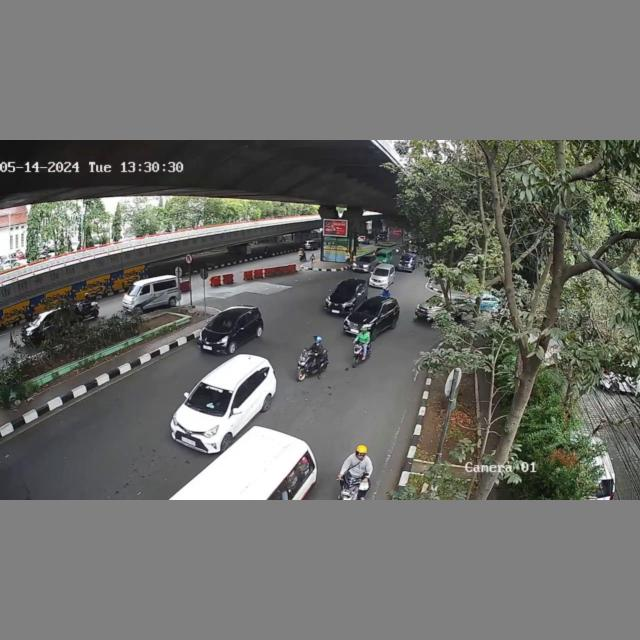windshield: (186, 379, 233, 414), (207, 313, 236, 334), (335, 283, 357, 296)
